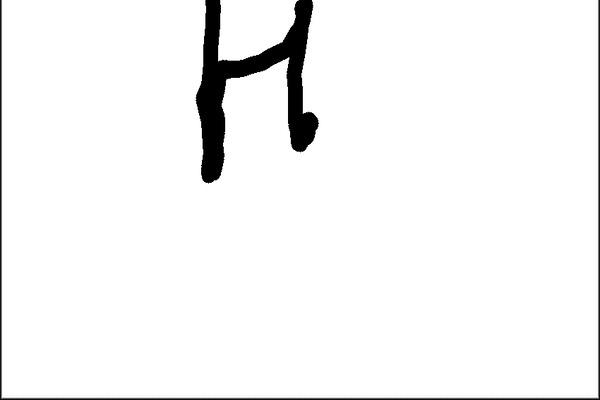H: (190, 1, 323, 185)
